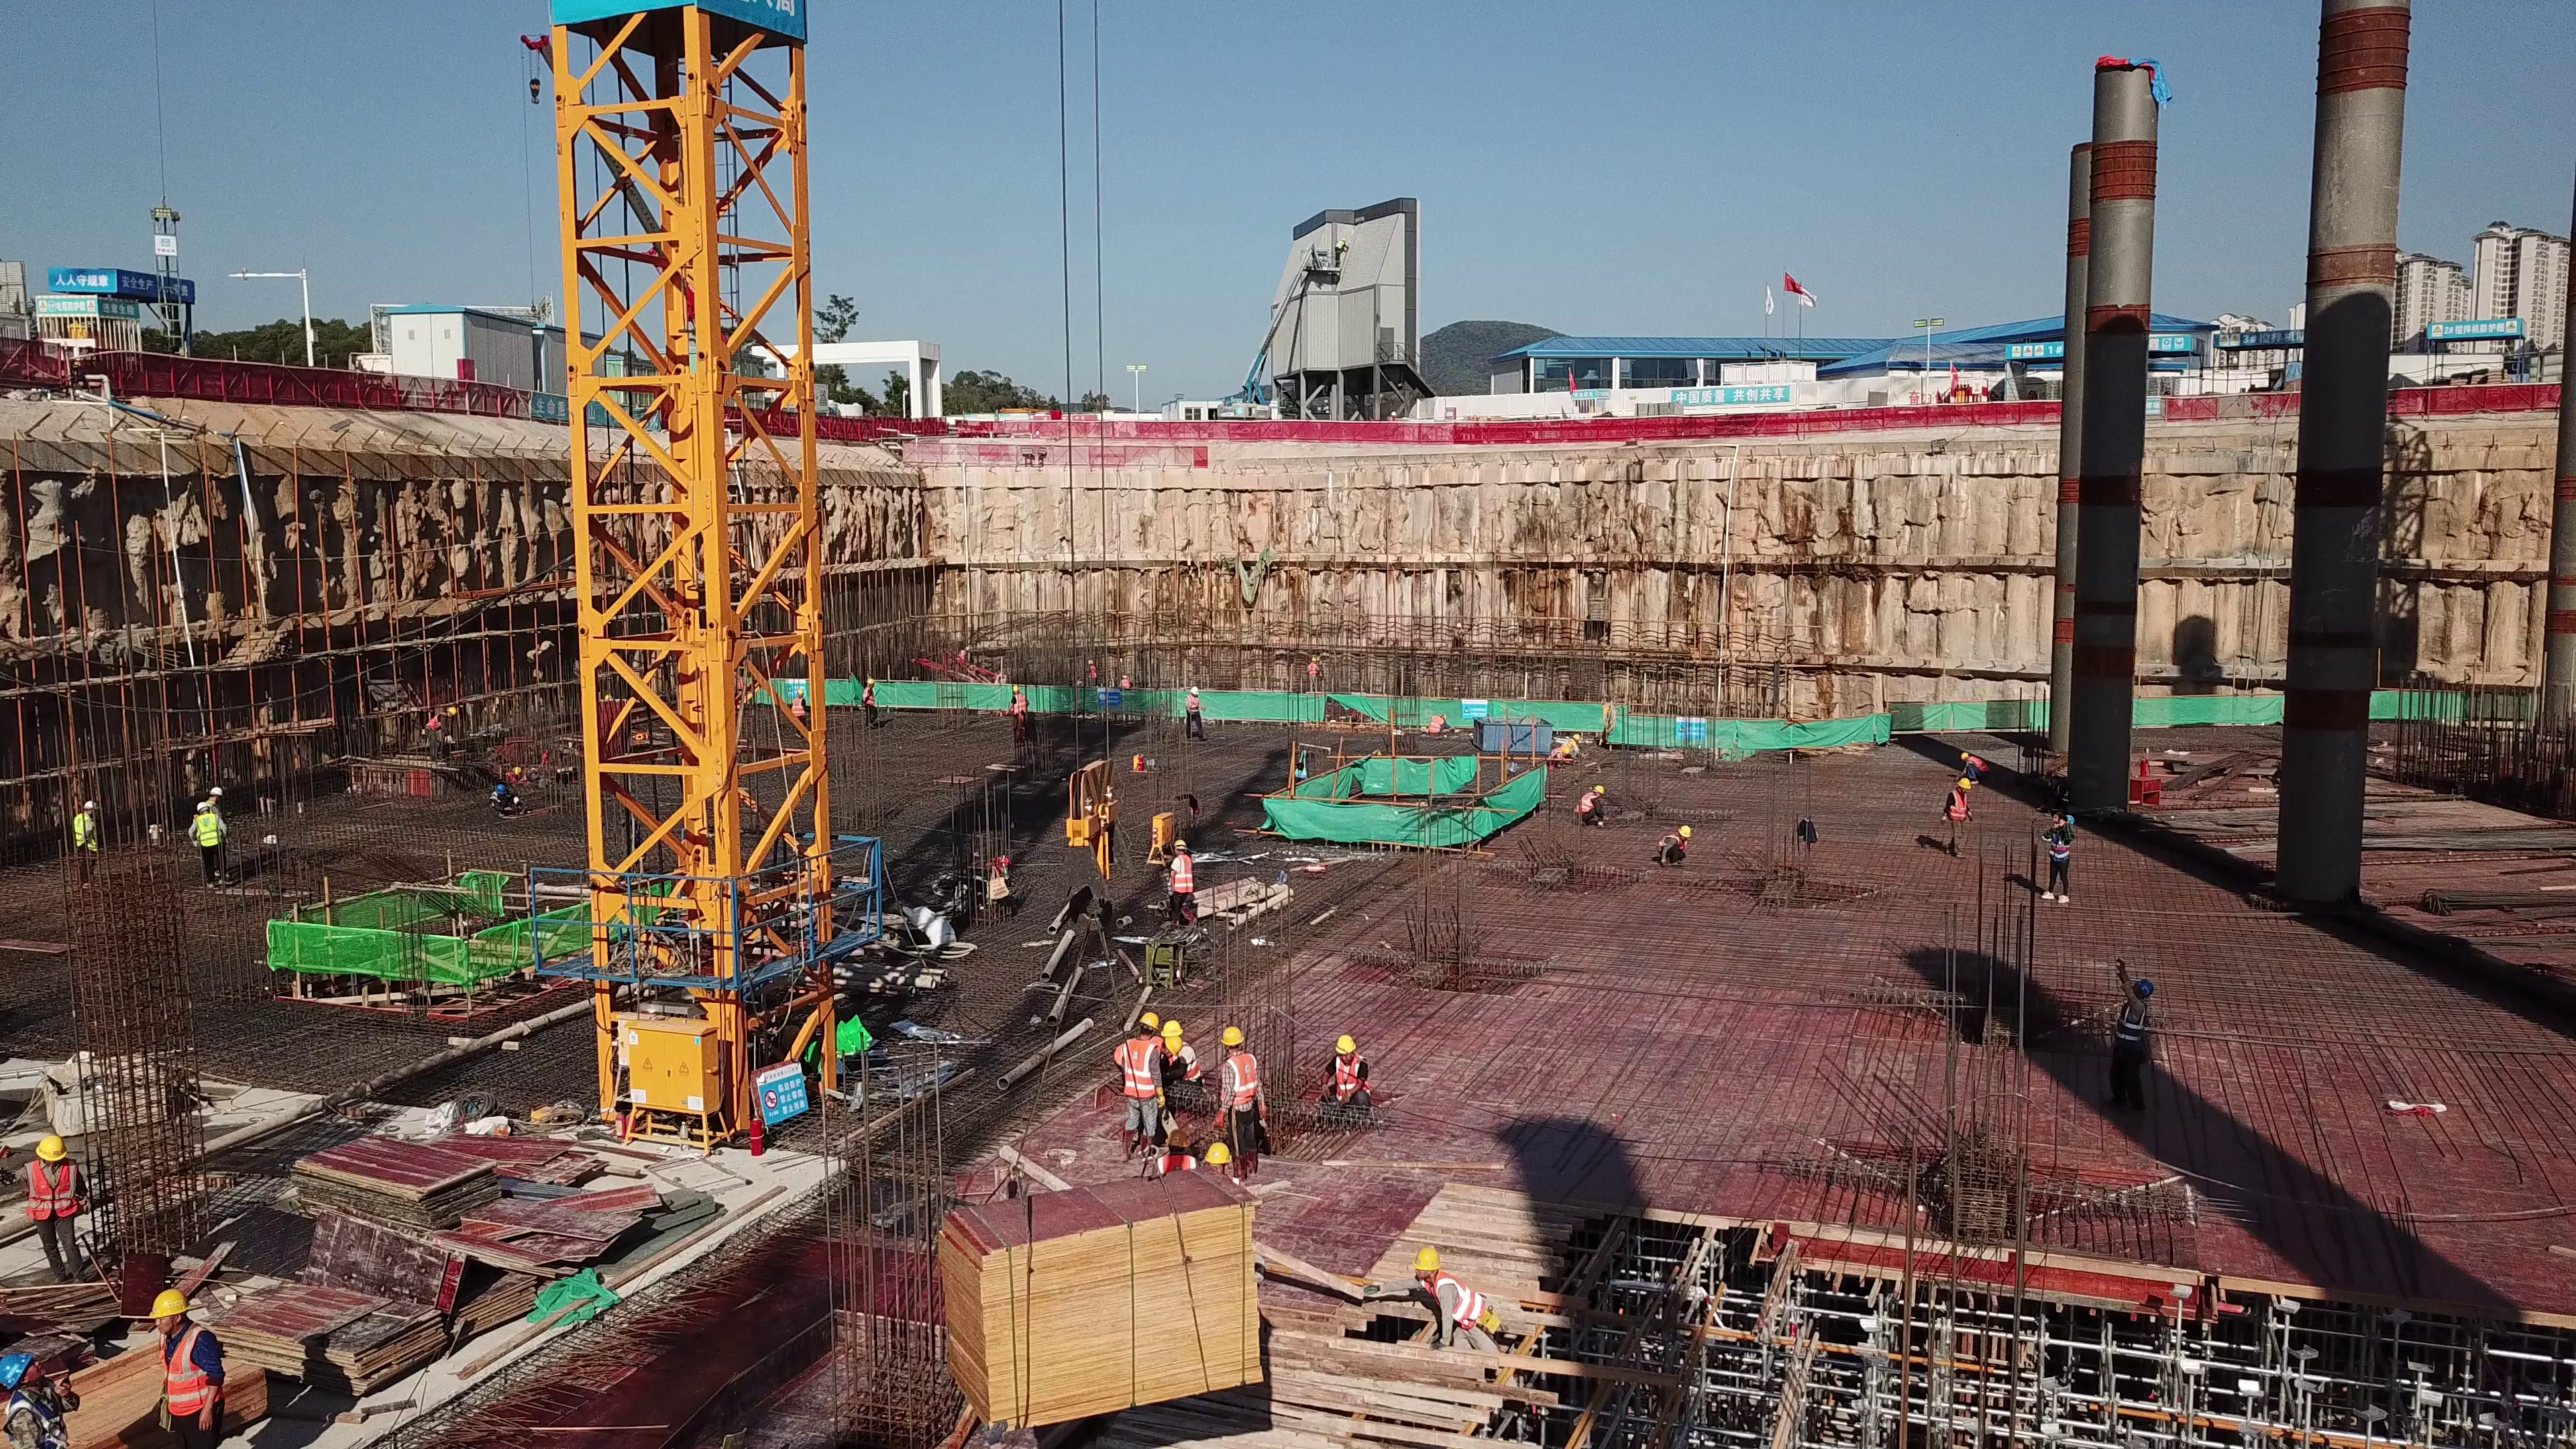board: (927, 1172, 1273, 1415), (238, 1116, 599, 1344)
ebox: (619, 1007, 717, 1155), (1148, 813, 1173, 868)
fence: (171, 358, 398, 411), (1482, 421, 1811, 451)
helmet: (1411, 1232, 1450, 1268), (147, 1291, 189, 1317), (1, 1354, 31, 1387), (36, 1136, 67, 1158), (1204, 1140, 1230, 1163), (1220, 1026, 1242, 1049), (1333, 1034, 1358, 1053), (1167, 1129, 1189, 1150), (2133, 974, 2152, 996), (1163, 1038, 1184, 1053), (1140, 1011, 1157, 1028), (1165, 1017, 1181, 1033), (2065, 814, 2078, 829), (78, 802, 99, 810), (1959, 777, 1972, 790), (446, 707, 463, 717), (1678, 826, 1690, 838), (1173, 839, 1188, 847), (197, 798, 209, 809), (511, 765, 524, 776), (209, 786, 220, 796), (1187, 686, 1197, 696), (496, 782, 507, 791), (1595, 786, 1605, 796), (1959, 750, 1968, 761), (1011, 686, 1022, 694), (1573, 733, 1582, 741), (866, 675, 875, 683), (1564, 748, 1571, 755)
hook: (1065, 753, 1126, 933), (519, 64, 552, 113)
hopper: (1477, 711, 1553, 758)
person: (1356, 1243, 1524, 1357), (128, 1279, 223, 1449), (12, 1138, 110, 1290), (2108, 949, 2155, 1138), (1, 1346, 97, 1432), (1116, 1011, 1158, 1161), (1313, 1030, 1379, 1121), (1214, 1028, 1266, 1144), (187, 802, 236, 893), (2040, 810, 2082, 910), (69, 797, 108, 900), (1162, 1014, 1205, 1091), (484, 779, 537, 834), (1566, 777, 1616, 835), (1941, 778, 1977, 857), (420, 702, 460, 765), (1170, 837, 1197, 932), (1653, 818, 1699, 869), (1159, 1132, 1203, 1174), (1006, 682, 1037, 740), (788, 682, 812, 747), (1183, 682, 1207, 738), (1959, 749, 1991, 782), (1426, 706, 1456, 742), (1305, 655, 1326, 698), (859, 676, 880, 728), (1550, 747, 1573, 767), (1565, 731, 1584, 747)
slogan: (535, 395, 661, 431), (2006, 335, 2192, 354), (1671, 386, 1790, 405), (121, 276, 193, 301), (2224, 330, 2324, 347), (50, 270, 113, 289), (2434, 323, 2520, 334), (39, 297, 95, 315), (105, 302, 134, 317), (1573, 392, 1599, 401)
vest: (160, 1333, 219, 1405), (13, 1387, 84, 1442), (1127, 1040, 1163, 1120), (29, 1162, 78, 1219), (1429, 1283, 1488, 1324), (1225, 1057, 1256, 1108), (190, 816, 230, 846), (1334, 1057, 1363, 1094), (1172, 857, 1195, 893), (2119, 1004, 2145, 1039), (76, 814, 97, 853), (1157, 1155, 1196, 1177), (422, 716, 450, 737), (2050, 830, 2068, 863), (1951, 791, 1970, 822), (1656, 833, 1678, 855), (1575, 794, 1596, 814), (1012, 694, 1027, 718), (1970, 757, 1987, 773), (862, 686, 875, 705), (1549, 745, 1566, 758), (1429, 716, 1442, 732), (1188, 697, 1201, 712), (1308, 664, 1320, 678)
wood: (1263, 1368, 1548, 1449)
